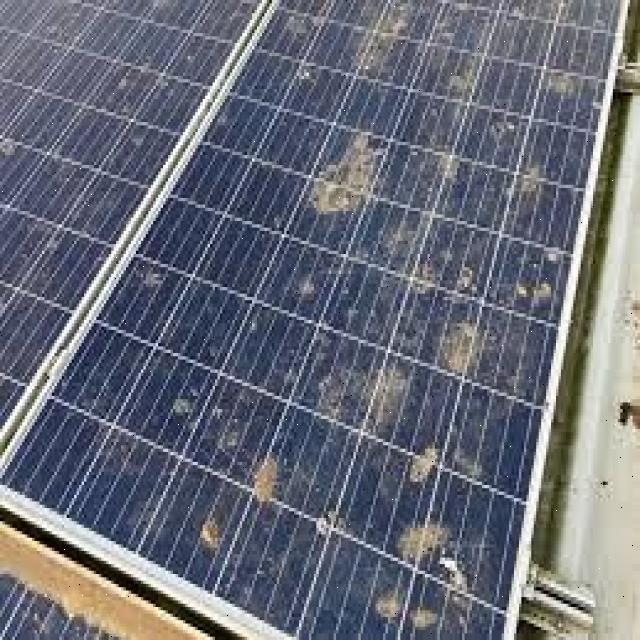Anomaly Solar Panel: (1, 0, 626, 640), (0, 0, 264, 430)
Surface Contaminant: (1, 0, 262, 425), (342, 139, 480, 313), (295, 331, 423, 461), (301, 123, 383, 226), (342, 0, 417, 83), (396, 433, 496, 492), (381, 510, 466, 573), (494, 148, 561, 223), (174, 382, 243, 454), (366, 585, 446, 636), (505, 236, 563, 306), (430, 311, 490, 378), (536, 59, 590, 110), (191, 511, 232, 571), (247, 455, 277, 513)
